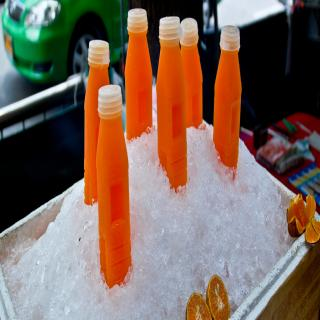Orange: (286, 188, 320, 242), (206, 272, 232, 318), (186, 290, 209, 320)
